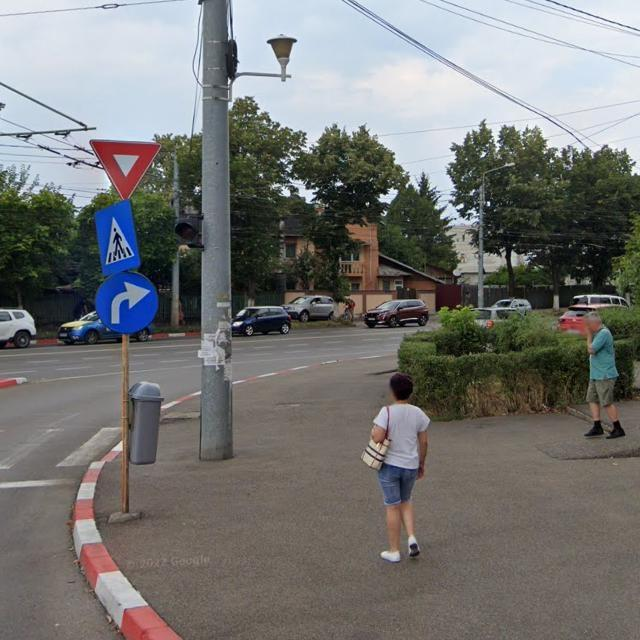info_crosswalk: (94, 200, 142, 275)
prio_give_way: (89, 137, 162, 199)
